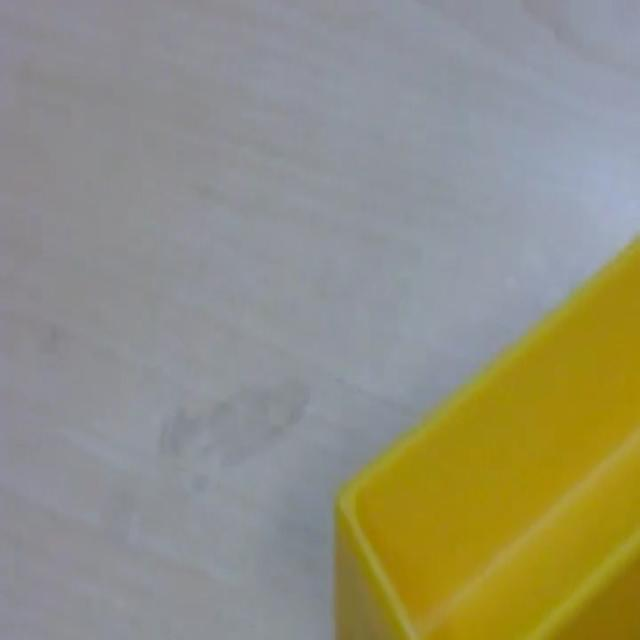yellow_block: (332, 231, 638, 637)
